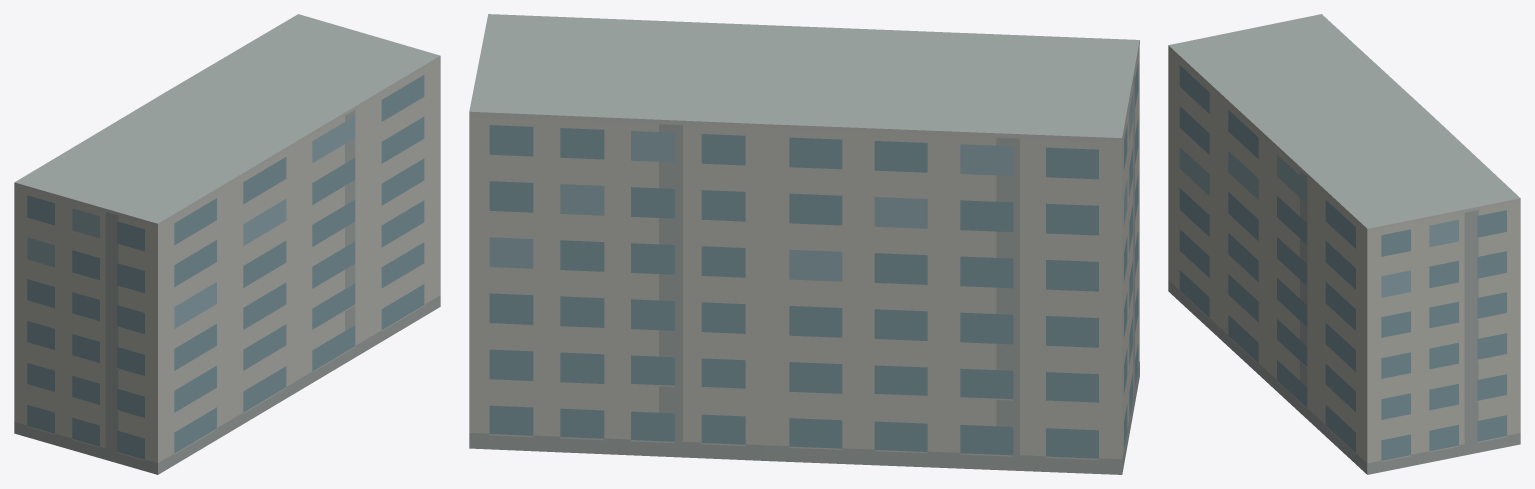
File: survey-upis-32996787.glb
3 views of the same model, side by side, from view 1: azimuth 30°, elevation 25°; view 2: azimuth 150°, elevation 25°; view 3: azimuth 270°, elevation 25° (orthographic). The views are drawn at different scales.
Parts seen in each view (by area): view 1: survey-upis-32996787.tmp; view 2: survey-upis-32996787.tmp; view 3: survey-upis-32996787.tmp.
Part boxes in pixels (left/top/right/bottom): survey-upis-32996787.tmp: left=14, top=14, right=440, bottom=474; survey-upis-32996787.tmp: left=469, top=14, right=1139, bottom=474; survey-upis-32996787.tmp: left=1168, top=14, right=1520, bottom=474.
Size of the model in its own units: 34.84 by 18.6 by 24.15.
